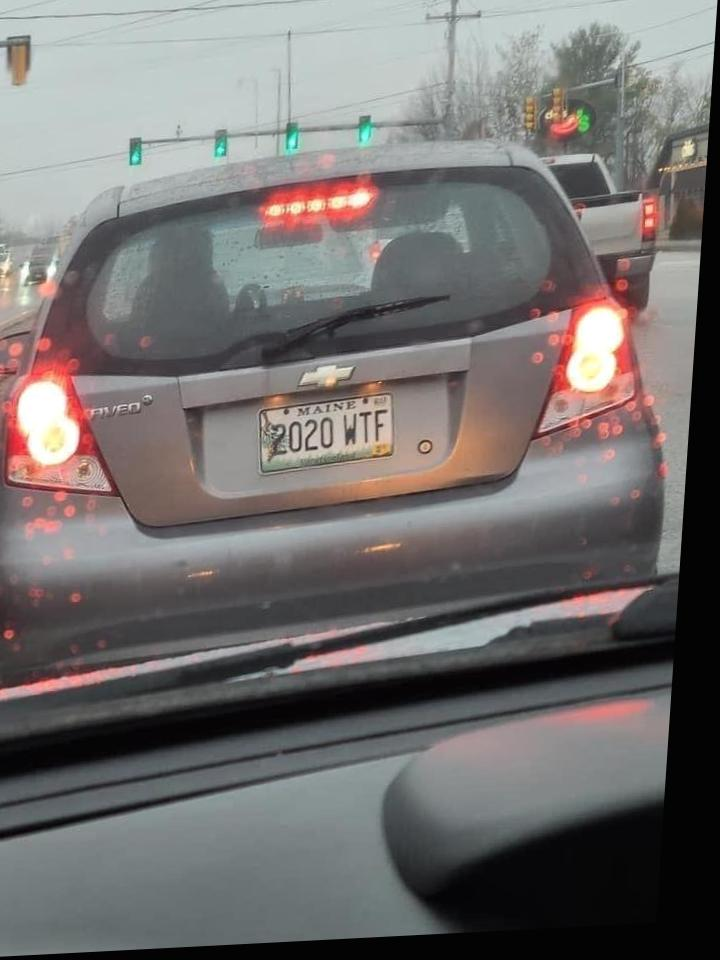License_Plate: (243, 384, 407, 484)
